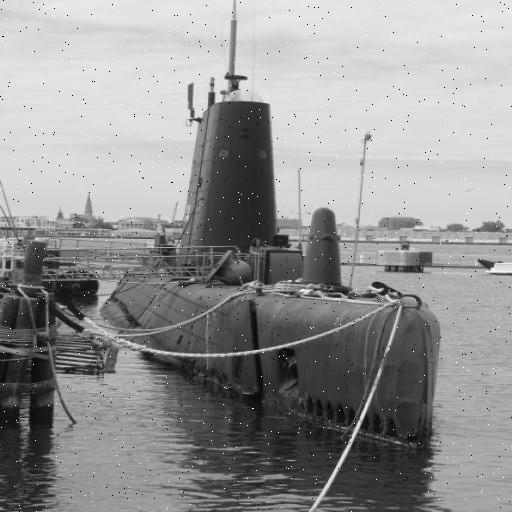submarine: (118, 1, 512, 337)
